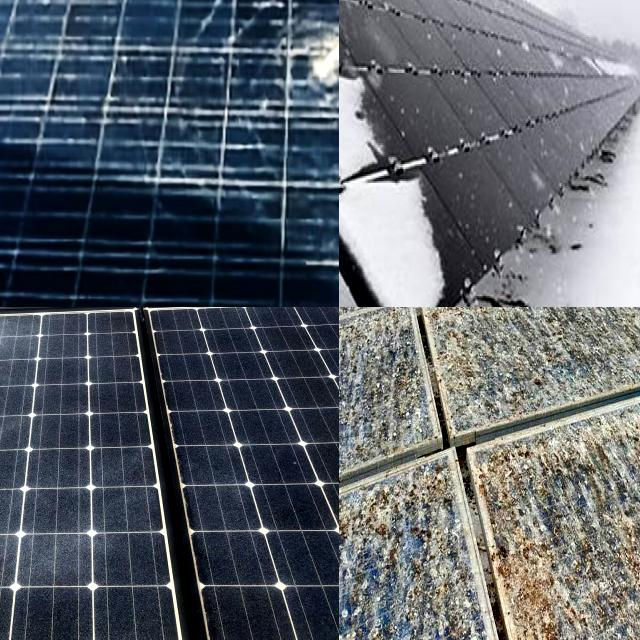bird: (364, 493, 442, 621), (474, 454, 576, 550), (471, 309, 544, 402), (352, 336, 418, 417), (554, 307, 637, 364), (523, 577, 583, 633), (620, 426, 640, 524), (440, 307, 517, 327), (339, 307, 361, 326)
hotspot: (284, 0, 339, 126)
panel: (347, 167, 438, 307), (339, 52, 390, 178), (339, 0, 401, 46), (339, 0, 388, 58), (339, 0, 390, 23), (339, 0, 380, 24)
